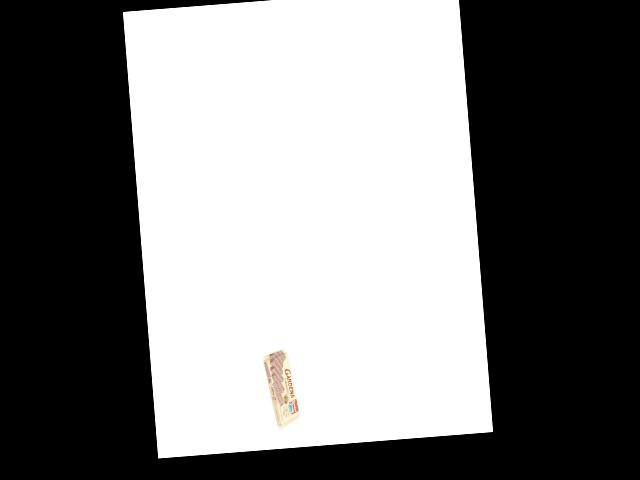chocolate: (265, 344, 302, 432)
